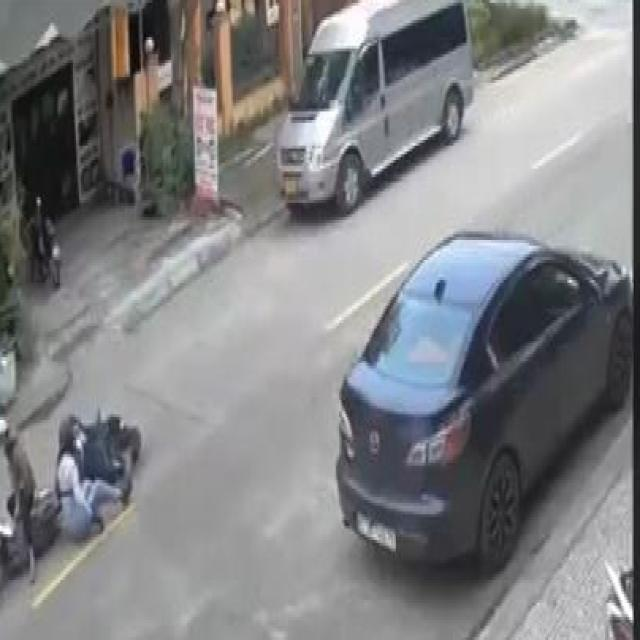accident: (0, 377, 146, 623)
